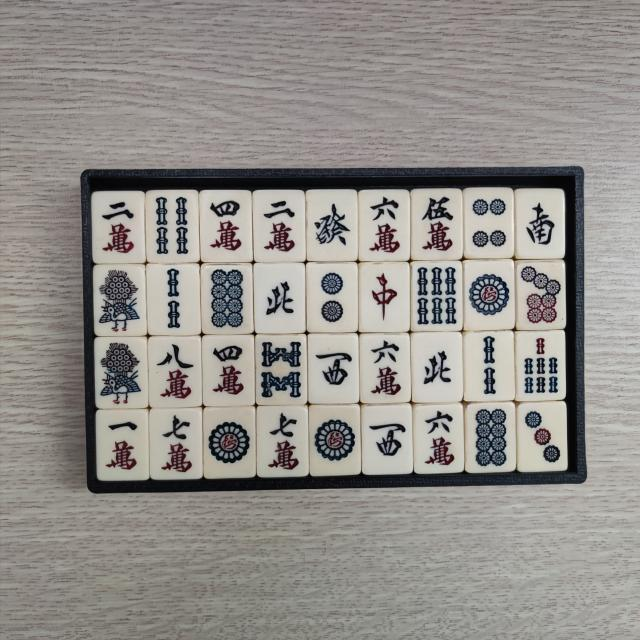hdg: (310, 194, 354, 256)
hdr: (364, 266, 406, 327)
hwn: (258, 268, 302, 328), (416, 336, 457, 396)
hws: (518, 193, 560, 253)
hww: (310, 338, 356, 399), (366, 410, 408, 470)
sb1: (98, 340, 144, 406), (96, 268, 142, 332)
sb2: (151, 266, 198, 331), (469, 334, 512, 398)
sb4: (152, 195, 196, 260)
sb6: (414, 265, 459, 327)
sb7: (519, 334, 561, 396)
sb8: (259, 338, 305, 400)
sc1: (101, 414, 143, 475)
sc2: (258, 194, 302, 256), (96, 195, 139, 258)
sc4: (206, 339, 252, 402), (204, 195, 249, 258)
sc5: (415, 192, 458, 254)
sc6: (364, 194, 406, 258), (419, 407, 461, 469), (364, 338, 407, 398)
sc7: (154, 413, 198, 478), (260, 409, 304, 473)
sc8: (154, 340, 200, 402)
sd1: (206, 412, 252, 476), (312, 410, 357, 472), (468, 264, 512, 326)
sd2: (311, 267, 354, 328)
sd3: (521, 407, 563, 469)
sd4: (469, 191, 511, 253)
sd7: (518, 264, 562, 327)
sd8: (206, 269, 248, 332), (472, 406, 512, 468)
